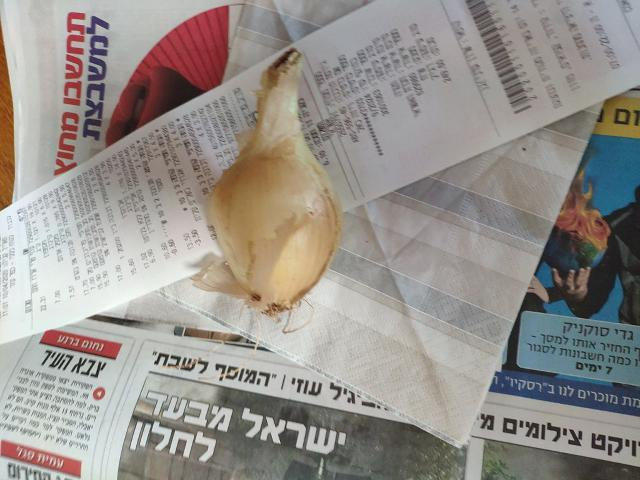onion: (206, 129, 344, 289)
